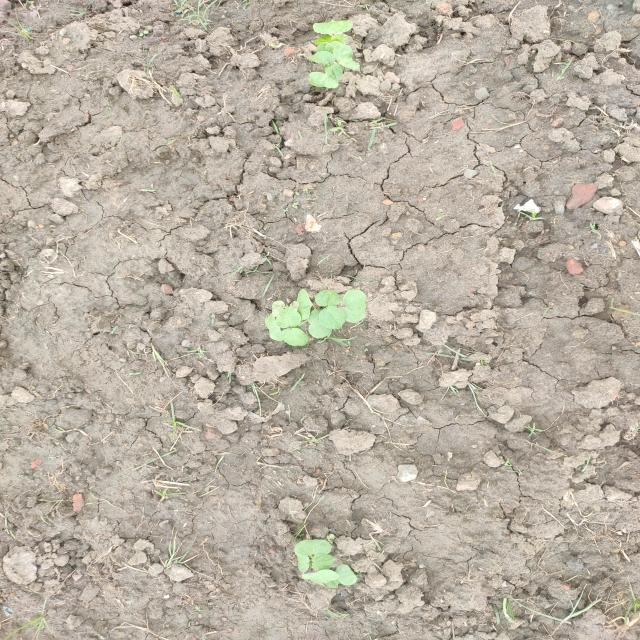seedling: (343, 290, 367, 323), (333, 44, 360, 70), (294, 539, 332, 556), (308, 309, 330, 338), (319, 306, 346, 329), (276, 305, 301, 328), (313, 20, 353, 34), (281, 327, 309, 346), (308, 72, 339, 88), (297, 289, 313, 320), (265, 314, 283, 341), (335, 564, 357, 586), (302, 570, 339, 583), (315, 290, 341, 307), (311, 554, 336, 571), (310, 51, 335, 67), (324, 63, 343, 82), (316, 41, 343, 53), (296, 554, 310, 572), (312, 35, 331, 45), (331, 34, 346, 44), (326, 578, 339, 588)
